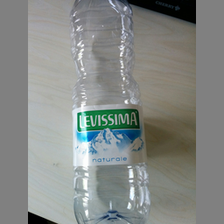water: (68, 1, 152, 224)
